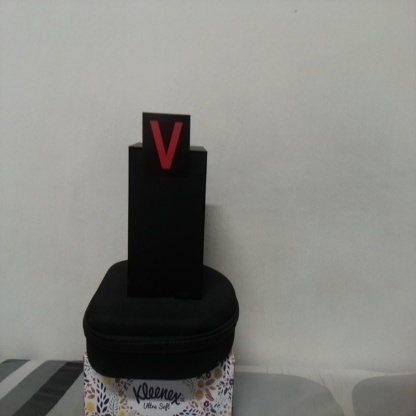id_11: (141, 114, 190, 179)
